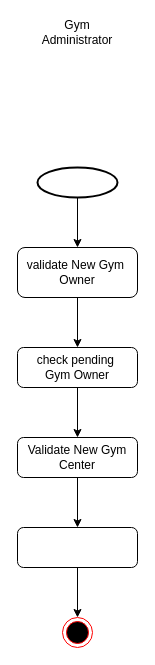
The diagram is 155 pixels wide and 665 high, and some of its shapes have lost their labels. Here are the shapes that lost their labels. From the top down, the box of each, then its label:
(36, 166, 118, 198): Start
(16, 526, 138, 568): Check pending Gym Request
